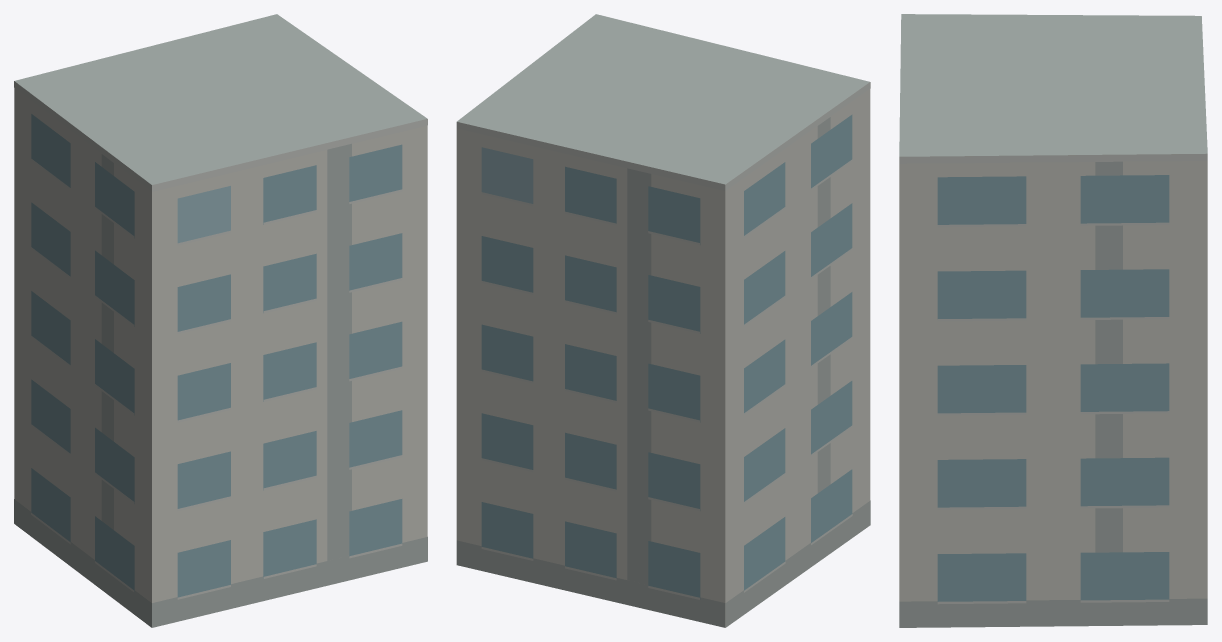
Rendered from survey-upis-33047455.glb.
The picture shows the model from 3 angles, left to right: view 1: azimuth 30°, elevation 25°; view 2: azimuth 150°, elevation 25°; view 3: azimuth 270°, elevation 25°; orthographic projection. The views are drawn at different scales.
Visible parts, largest first — view 1: survey-upis-33047455.tmp; view 2: survey-upis-33047455.tmp; view 3: survey-upis-33047455.tmp.
Boxes of the visible parts, x1,y1,x2,y2 form: survey-upis-33047455.tmp: (14,14,427,627); survey-upis-33047455.tmp: (456,14,870,627); survey-upis-33047455.tmp: (899,14,1207,627).
Bounding box in the file's own units: 10.47 × 16.1 × 9.57.
